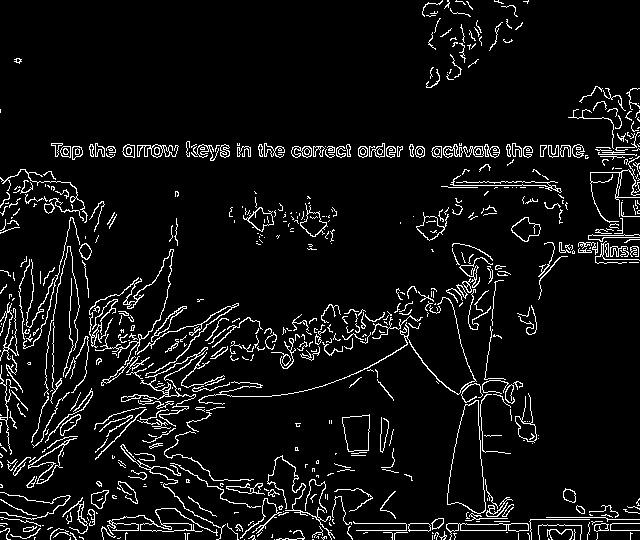down: (412, 209, 448, 249), (297, 205, 332, 243)
left: (505, 212, 545, 250), (241, 203, 278, 238)
